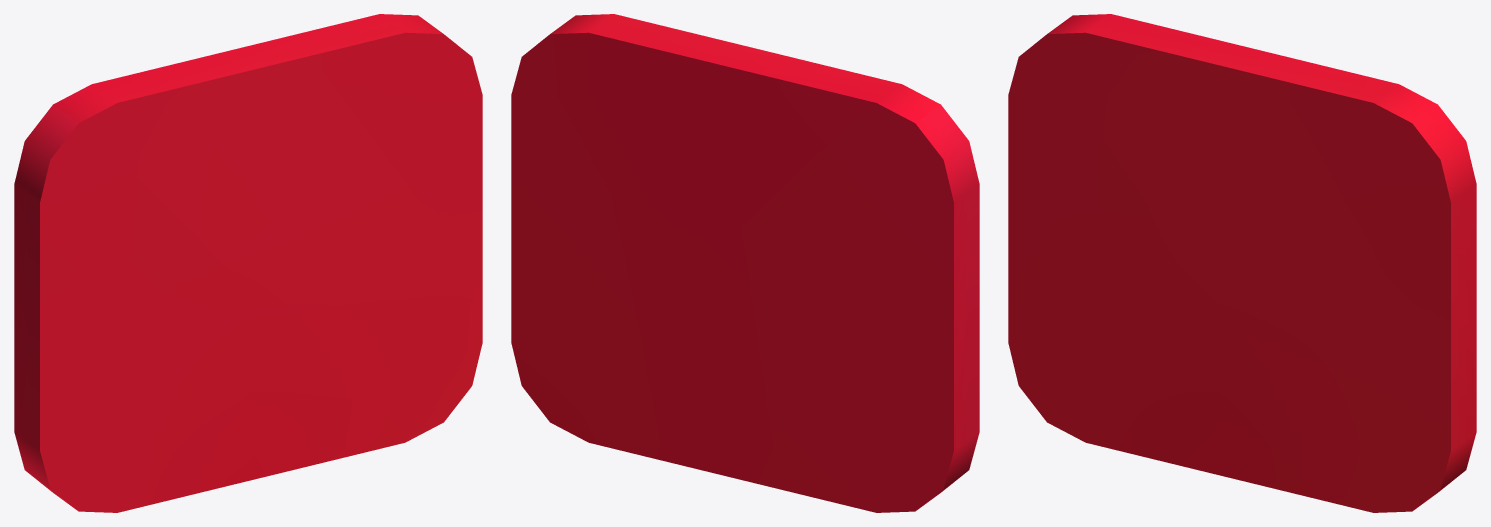
The model's file is e6027c18-e6c7-43ab-9156-efc656176915.glb.
3 views of the same model, side by side, from view 1: azimuth 30°, elevation 25°; view 2: azimuth 150°, elevation 25°; view 3: azimuth 330°, elevation 25° (orthographic).
Parts seen in each view (by area): view 1: buttonRedRoundedLarge; view 2: buttonRedRoundedLarge; view 3: buttonRedRoundedLarge.
Part boxes in pixels (x1,y1,x2,y2): buttonRedRoundedLarge: (14, 14, 482, 512); buttonRedRoundedLarge: (511, 14, 979, 512); buttonRedRoundedLarge: (1008, 14, 1476, 512).
Size of what is drawn, in the model's own units: 0.3101 by 0.2744 by 0.0311.
1 material, 1 textured.
